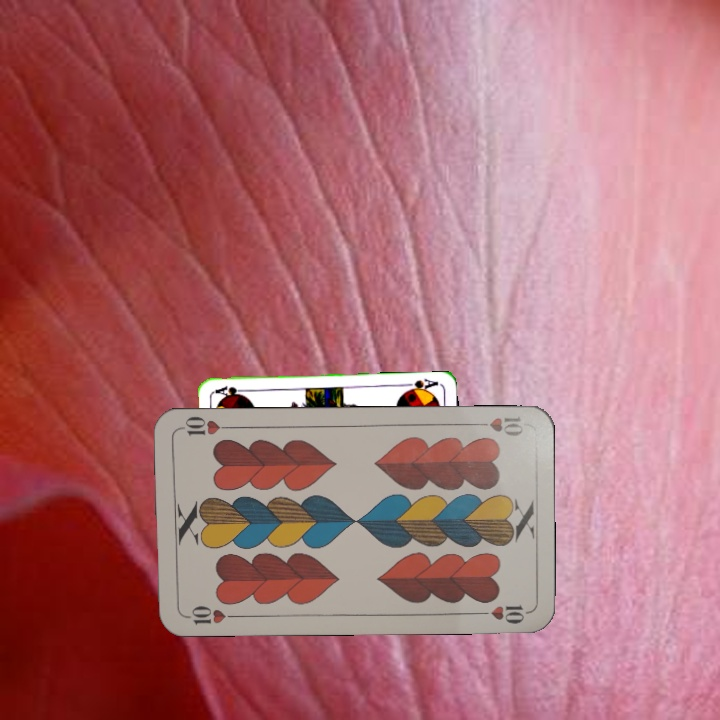H10: (469, 412, 526, 439), (180, 602, 239, 627)
SA: (401, 375, 441, 395)
